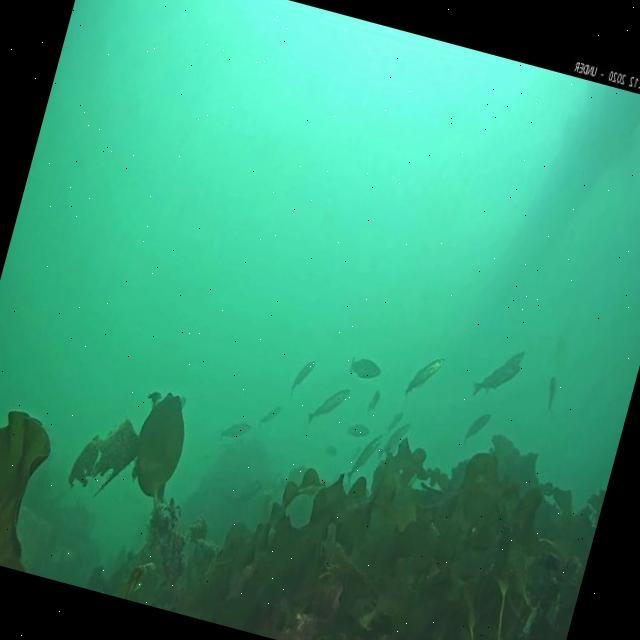fish: (478, 343, 524, 402), (468, 356, 518, 406), (304, 380, 350, 432), (344, 430, 382, 487), (402, 351, 442, 401), (377, 416, 412, 463), (216, 414, 254, 448), (289, 354, 317, 398), (460, 408, 490, 449), (348, 354, 382, 384), (540, 369, 562, 410), (256, 402, 282, 432), (364, 384, 381, 416), (343, 420, 367, 441), (384, 409, 400, 433), (322, 442, 340, 461)
